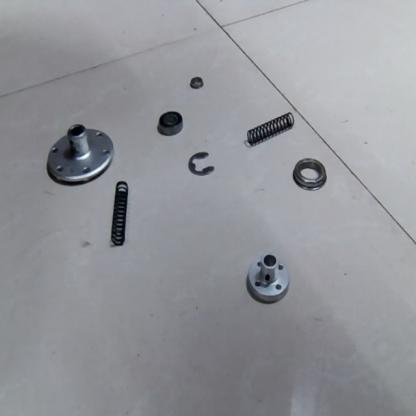FOD: (44, 120, 115, 190), (244, 248, 291, 304), (245, 110, 296, 149), (108, 178, 131, 249), (291, 154, 329, 192), (156, 108, 184, 140), (186, 149, 214, 177), (187, 75, 206, 91)
